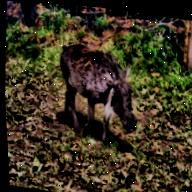boar: (52, 39, 144, 151)
